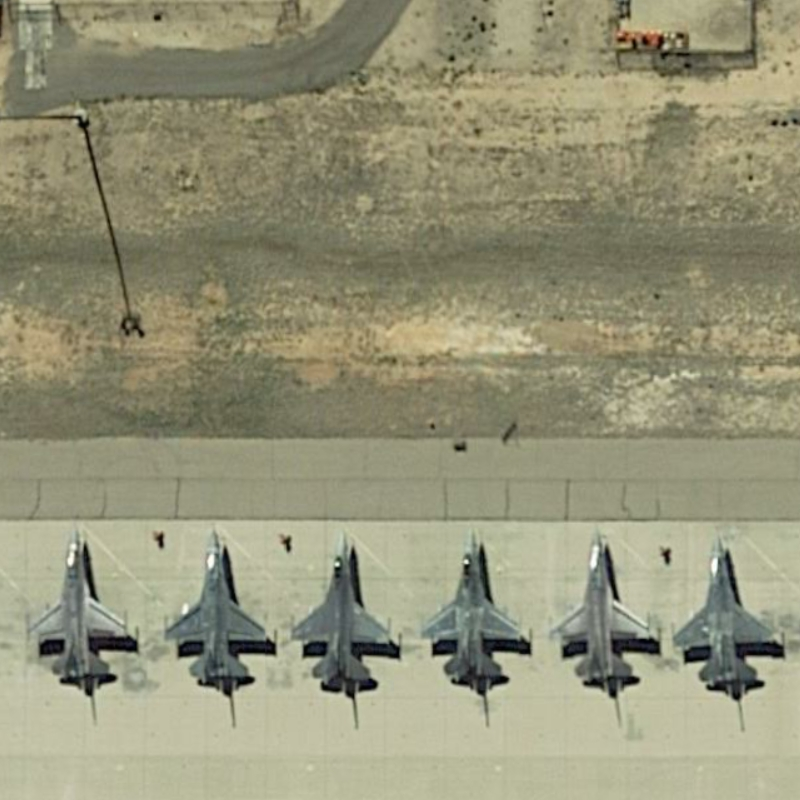A5: (18, 522, 148, 694), (154, 518, 281, 694), (415, 519, 539, 694), (668, 524, 789, 700), (286, 522, 402, 700), (549, 525, 666, 700)
